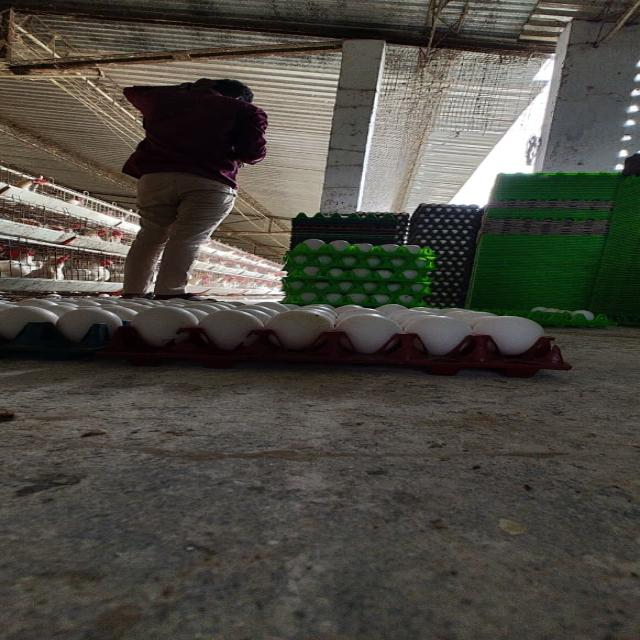egg_tray: (0, 296, 567, 374), (102, 304, 570, 376), (99, 327, 571, 377), (132, 301, 542, 354), (312, 304, 569, 376), (0, 294, 240, 358), (0, 294, 241, 356), (265, 304, 542, 356), (133, 301, 406, 349), (319, 304, 542, 356), (104, 300, 288, 356), (283, 239, 433, 306), (474, 234, 604, 308), (0, 298, 132, 358), (591, 176, 639, 324), (476, 234, 604, 284), (0, 197, 133, 244), (0, 238, 122, 282), (468, 267, 592, 308), (285, 248, 434, 281), (132, 300, 234, 348), (466, 272, 592, 309), (593, 220, 639, 314), (287, 240, 434, 269), (0, 322, 112, 359), (492, 172, 622, 201), (408, 208, 482, 258), (408, 204, 482, 254), (291, 213, 408, 244), (201, 238, 284, 280), (285, 266, 430, 290), (283, 272, 430, 295), (291, 220, 406, 247), (285, 252, 433, 272), (192, 256, 284, 288), (429, 241, 474, 306), (293, 218, 405, 244), (486, 200, 614, 222), (479, 307, 613, 328), (293, 215, 396, 241), (283, 276, 428, 294), (293, 212, 409, 234), (592, 270, 639, 324), (203, 238, 278, 270), (291, 227, 405, 248), (483, 218, 609, 236), (466, 280, 544, 309), (408, 216, 483, 246), (284, 292, 423, 308), (189, 270, 279, 294), (416, 237, 475, 272), (409, 216, 481, 244), (408, 217, 482, 244), (195, 257, 280, 280), (409, 210, 483, 236), (196, 258, 282, 280), (430, 260, 471, 306), (409, 210, 483, 235), (430, 260, 470, 306), (422, 238, 474, 270), (522, 310, 613, 328), (410, 210, 482, 232), (416, 238, 474, 265), (190, 278, 280, 295), (431, 269, 470, 306), (213, 312, 271, 334), (411, 203, 481, 220), (427, 278, 466, 308), (294, 212, 408, 222), (433, 247, 474, 274), (188, 269, 244, 286), (430, 260, 471, 283), (432, 270, 470, 292), (434, 252, 472, 274), (194, 258, 244, 274), (616, 176, 639, 209), (272, 314, 294, 348), (433, 271, 468, 292), (553, 287, 587, 308), (428, 290, 464, 308), (242, 270, 285, 280), (613, 314, 639, 326), (32, 344, 58, 356), (250, 311, 267, 318), (246, 305, 261, 312), (500, 310, 519, 314), (433, 302, 450, 306), (322, 314, 327, 326), (547, 280, 552, 291), (494, 279, 499, 287), (433, 303, 445, 306), (523, 303, 529, 308), (211, 334, 214, 341), (509, 302, 514, 306), (62, 352, 67, 356), (311, 318, 316, 321), (319, 306, 322, 311), (483, 303, 488, 306), (38, 336, 43, 339), (278, 306, 285, 308), (121, 323, 128, 325), (564, 236, 570, 238), (307, 272, 312, 274), (307, 235, 312, 237), (374, 242, 383, 243), (283, 306, 287, 308), (637, 214, 639, 218), (492, 304, 496, 306), (252, 267, 257, 268), (292, 244, 294, 246), (248, 306, 250, 308), (263, 340, 264, 344), (141, 361, 143, 363), (272, 303, 276, 304), (330, 302, 332, 303), (284, 344, 285, 346), (54, 335, 55, 337), (240, 308, 241, 310), (295, 242, 296, 243), (200, 256, 201, 257), (336, 298, 336, 300), (274, 328, 277, 328), (398, 248, 404, 248), (391, 246, 396, 246), (458, 305, 460, 305), (434, 305, 436, 305), (274, 358, 276, 358), (199, 257, 200, 257), (578, 290, 578, 292), (338, 274, 338, 274), (474, 303, 476, 303), (534, 296, 534, 296), (366, 241, 370, 241), (312, 236, 316, 236), (368, 332, 369, 332), (158, 310, 158, 310), (636, 258, 636, 260), (366, 241, 367, 241)
